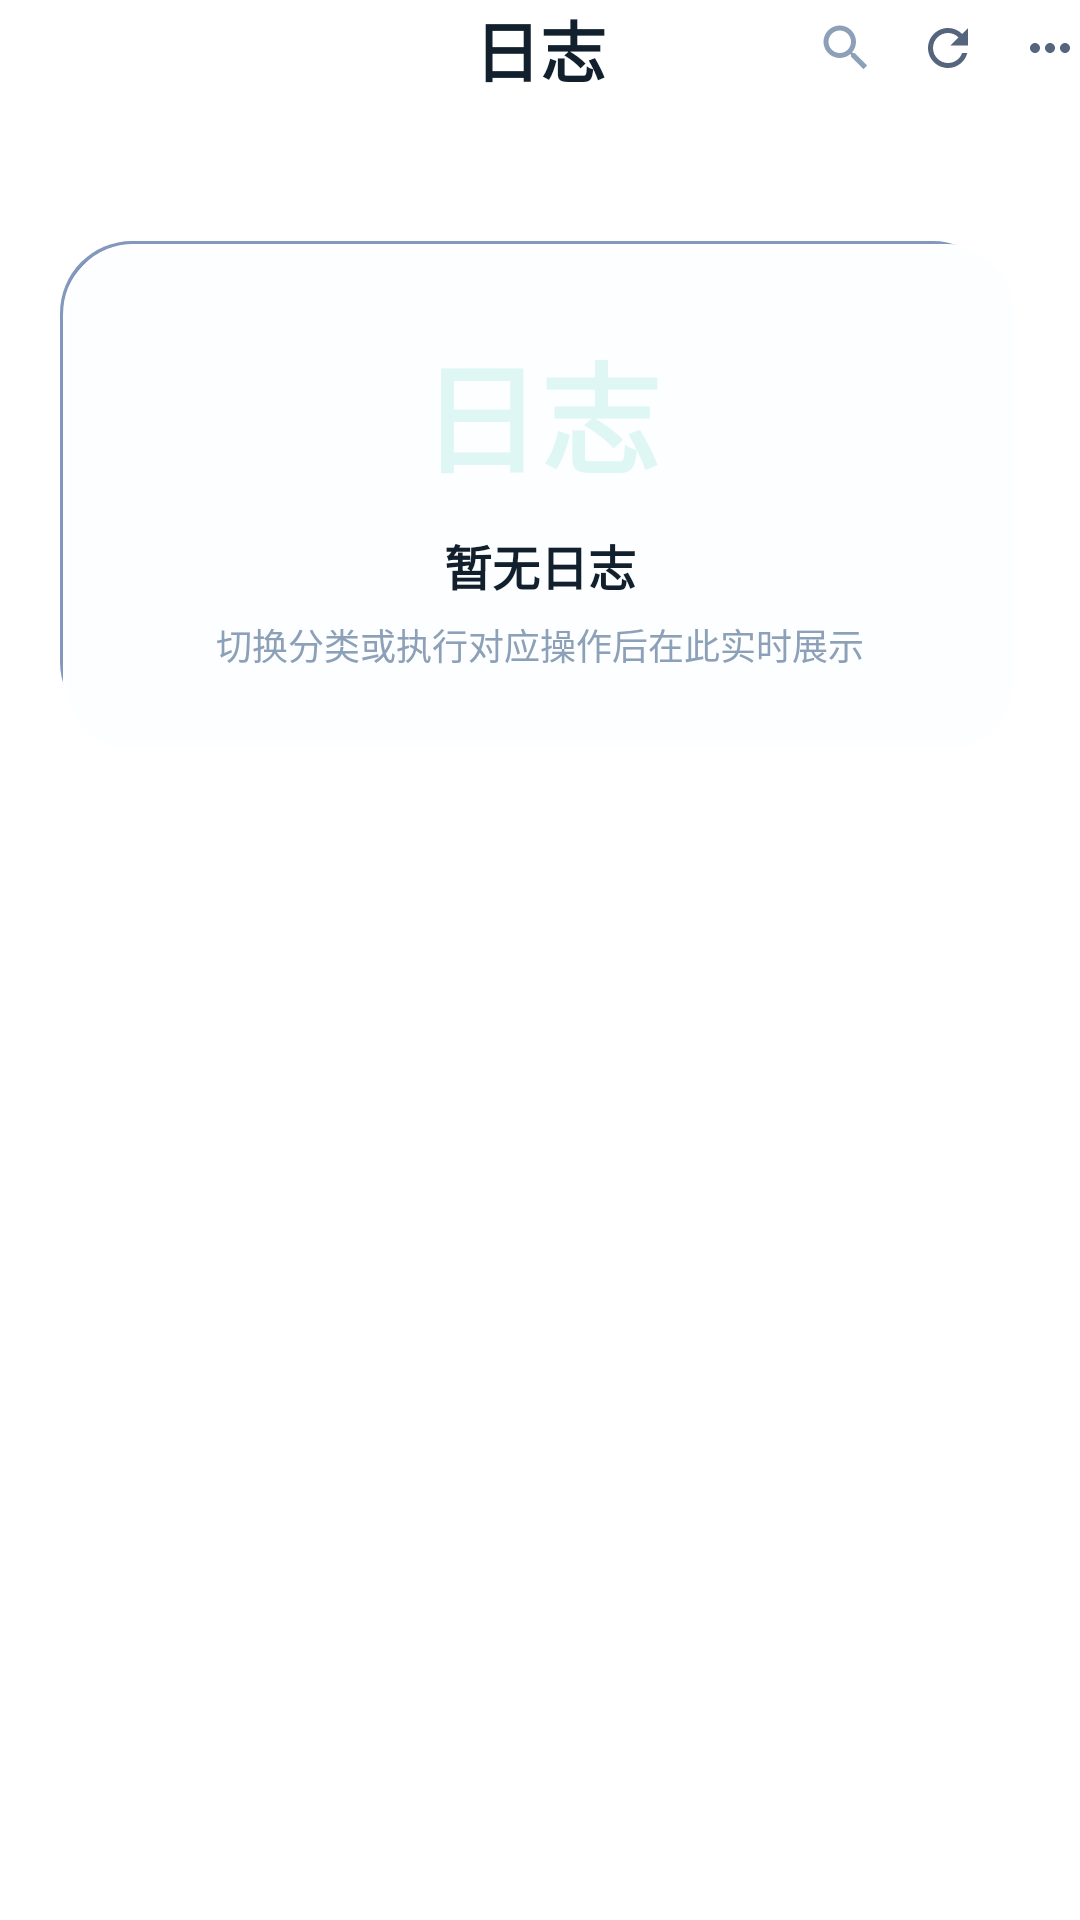

Icons on this 1080 × 1920 Android screen, each with its box as [left=x1, top=y1, right=x2, bottom=y2]:
neo more: [left=1030, top=43, right=1070, bottom=53]
neo refresh: [left=928, top=28, right=968, bottom=68]
neo search: [left=823, top=25, right=867, bottom=69]
